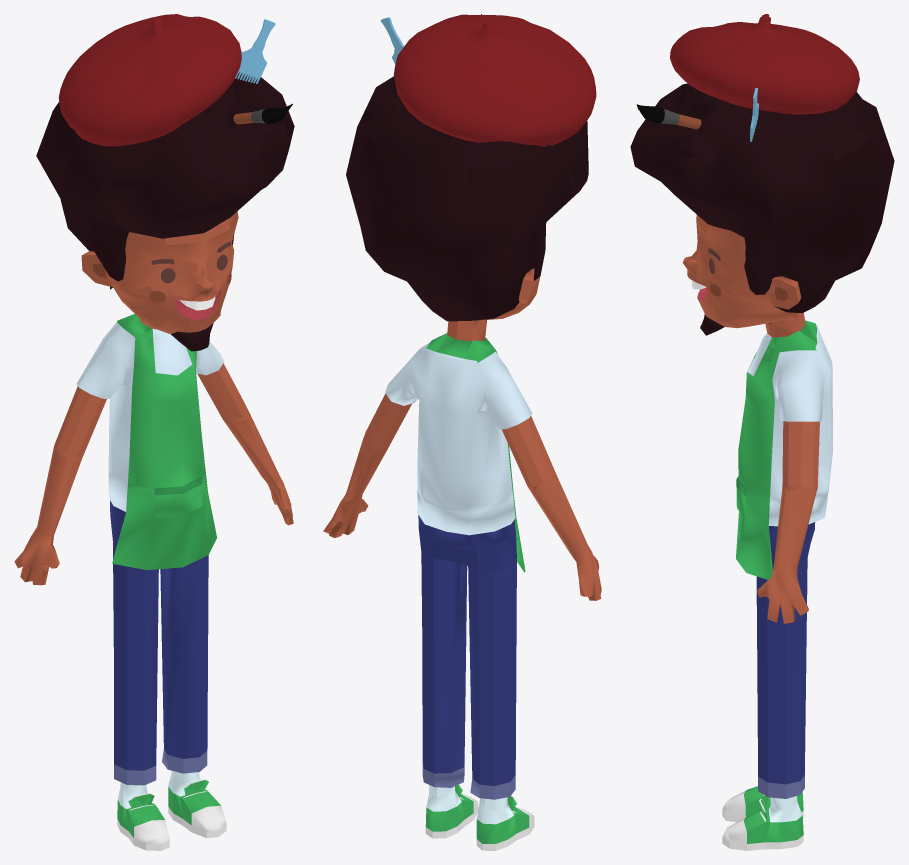
File: Amir.glb
3 views of the same model, side by side, from view 1: azimuth 30°, elevation 25°; view 2: azimuth 150°, elevation 25°; view 3: azimuth 270°, elevation 25° (orthographic).
Parts seen in each view (by area): view 1: Cube_1, HAIR.001_3, Esfera UV, Plane, Cylinder_2, Cylinder; view 2: Cube_1, HAIR.001_3, Esfera UV; view 3: Cube_1, HAIR.001_3, Esfera UV, Cylinder.
Part boxes in pixels (x1,y1,x2,y2): Cube_1: [14, 211, 293, 850]; HAIR.001_3: [36, 72, 294, 289]; Esfera UV: [58, 14, 241, 146]; Plane: [235, 19, 275, 83]; Cylinder_2: [149, 241, 231, 302]; Cylinder: [233, 103, 292, 124]; Cube_1: [323, 268, 601, 850]; HAIR.001_3: [346, 76, 588, 321]; Esfera UV: [394, 14, 596, 146]; Cube_1: [682, 214, 832, 850]; HAIR.001_3: [630, 83, 894, 313]; Esfera UV: [670, 14, 859, 114]; Cylinder: [636, 104, 701, 129].
Size of the model in its own units: 1.72 by 4.98 by 1.47.
4 materials, 3 textured.
